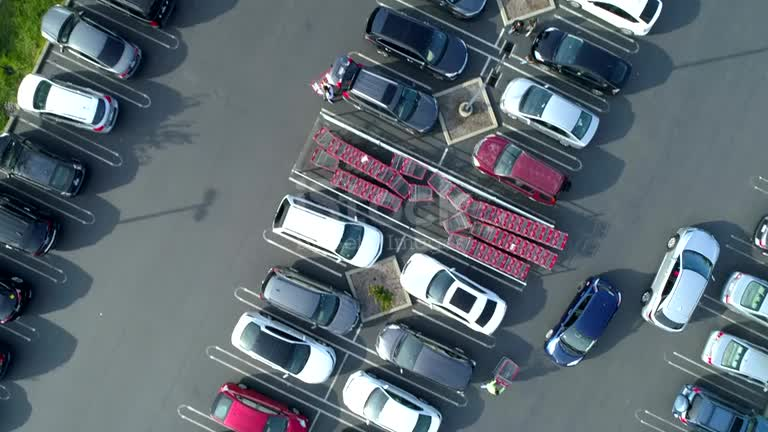car: (400, 253, 506, 334), (329, 56, 438, 133), (641, 227, 719, 331), (272, 195, 383, 266), (364, 6, 468, 79), (231, 312, 335, 383), (41, 5, 141, 78), (500, 78, 598, 148), (544, 276, 620, 366), (260, 266, 360, 334), (472, 135, 569, 205), (530, 27, 631, 93), (376, 323, 474, 391), (342, 371, 441, 431), (17, 74, 117, 132), (0, 133, 84, 196), (211, 383, 308, 431), (672, 384, 767, 431), (701, 330, 767, 390), (0, 193, 58, 255), (568, 0, 661, 35), (721, 272, 767, 323), (98, 0, 176, 27), (0, 276, 31, 323), (432, 0, 486, 18), (753, 215, 768, 255), (0, 344, 11, 378)
